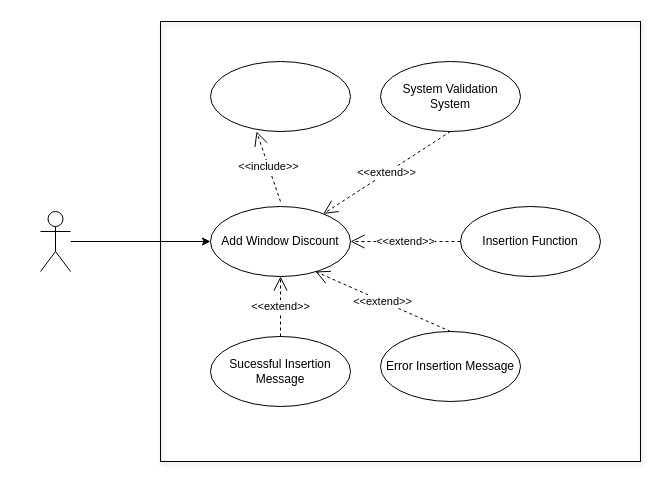
Some shapes in this 664 by 486 pixel diagram are drawn without their labels. The centre of each missing label's shape, as x and y in pixels:
Admin/ Owner: the point at 55,241
System Checking Inputs Filling: the point at 280,96
